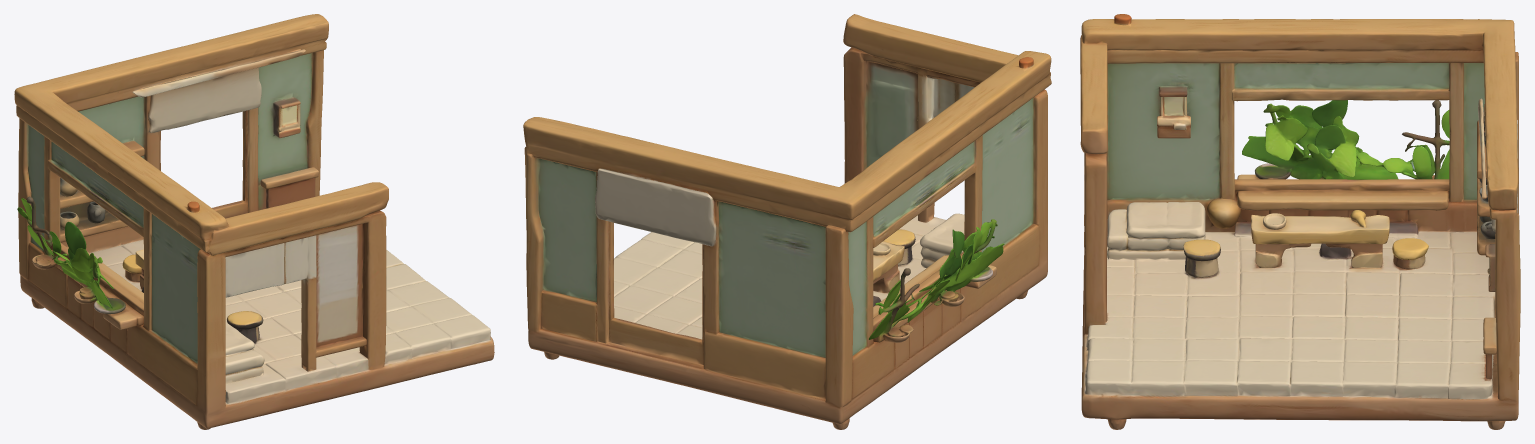
Rendered from sushi-room-v3.glb.
3 views of the same model, side by side, from view 1: azimuth 30°, elevation 25°; view 2: azimuth 150°, elevation 25°; view 3: azimuth 270°, elevation 25° (orthographic). The views are drawn at different scales.
Parts seen in each view (by area): view 1: tripo_node_892c9bc8-79a8-49b9-8359-b71483695f28; view 2: tripo_node_892c9bc8-79a8-49b9-8359-b71483695f28; view 3: tripo_node_892c9bc8-79a8-49b9-8359-b71483695f28.
Boxes of the visible parts, x1,y1,x2,y2 form: tripo_node_892c9bc8-79a8-49b9-8359-b71483695f28: (14,14,494,429); tripo_node_892c9bc8-79a8-49b9-8359-b71483695f28: (523,14,1051,429); tripo_node_892c9bc8-79a8-49b9-8359-b71483695f28: (1080,14,1520,429).
Bounding box in the file's own units: 0.9992 × 0.645 × 1.
1 material, 1 textured.
